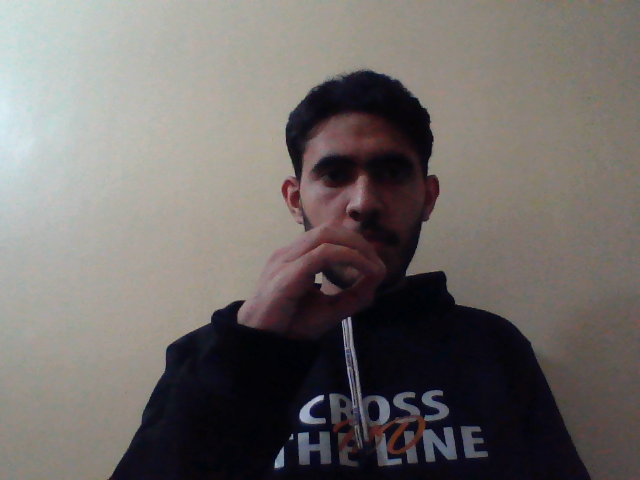O: (237, 219, 390, 343)
